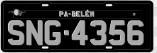placa_antiga: (1, 0, 152, 51)
